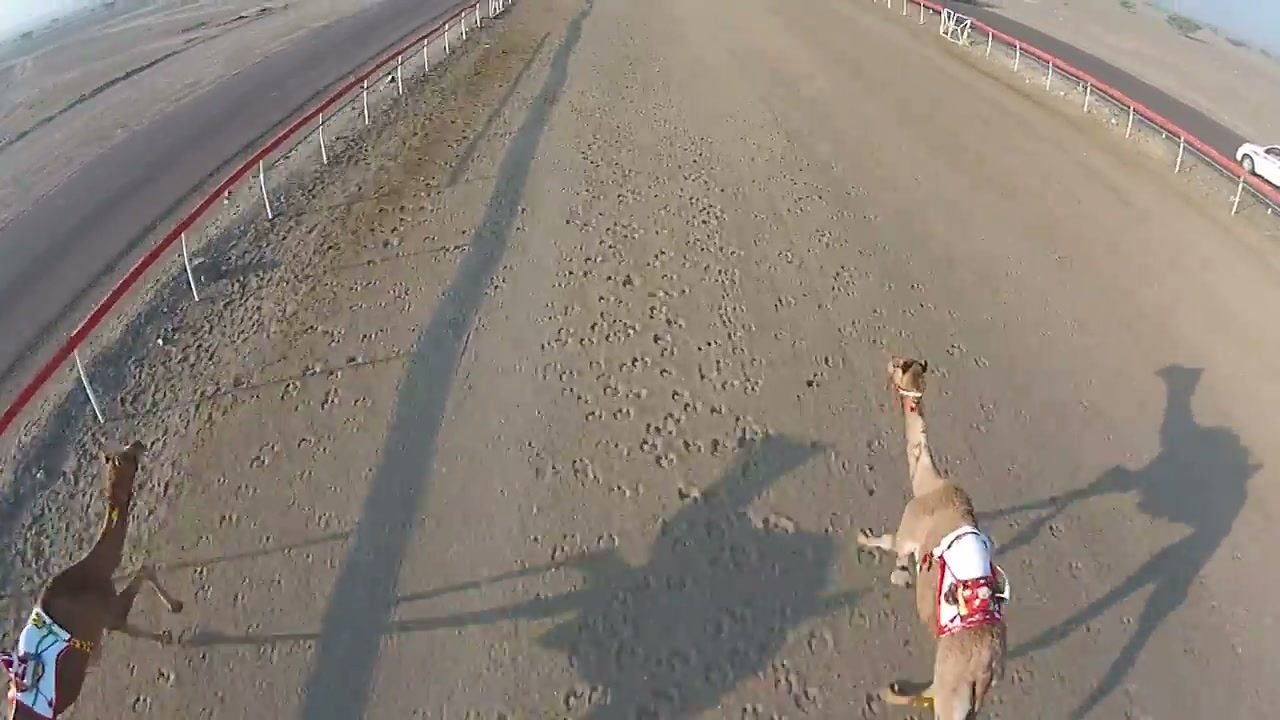animal_footprint: (557, 69, 859, 711)
